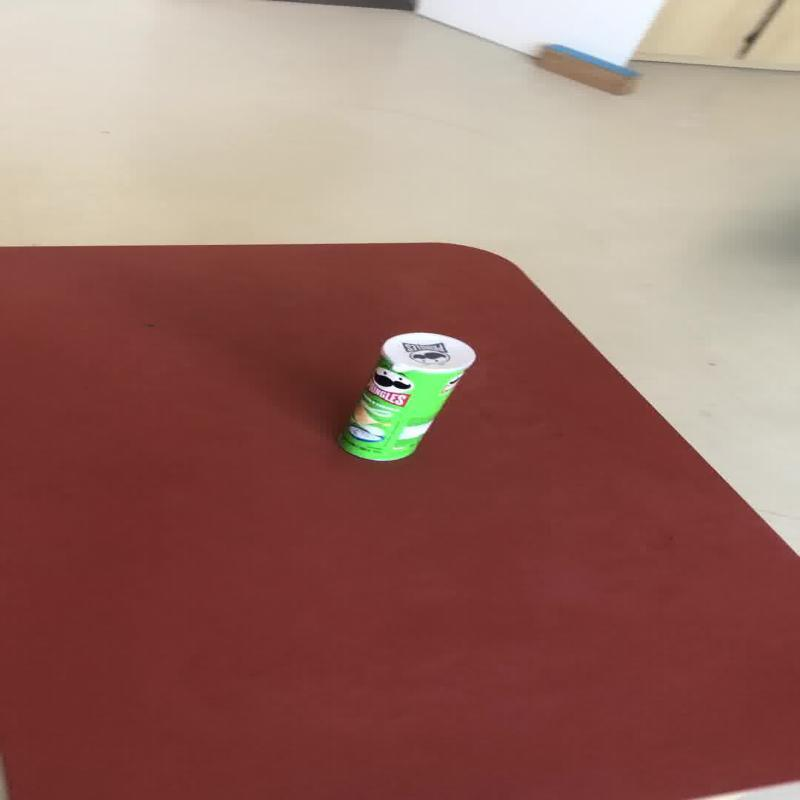pringles: (334, 330, 476, 462)
